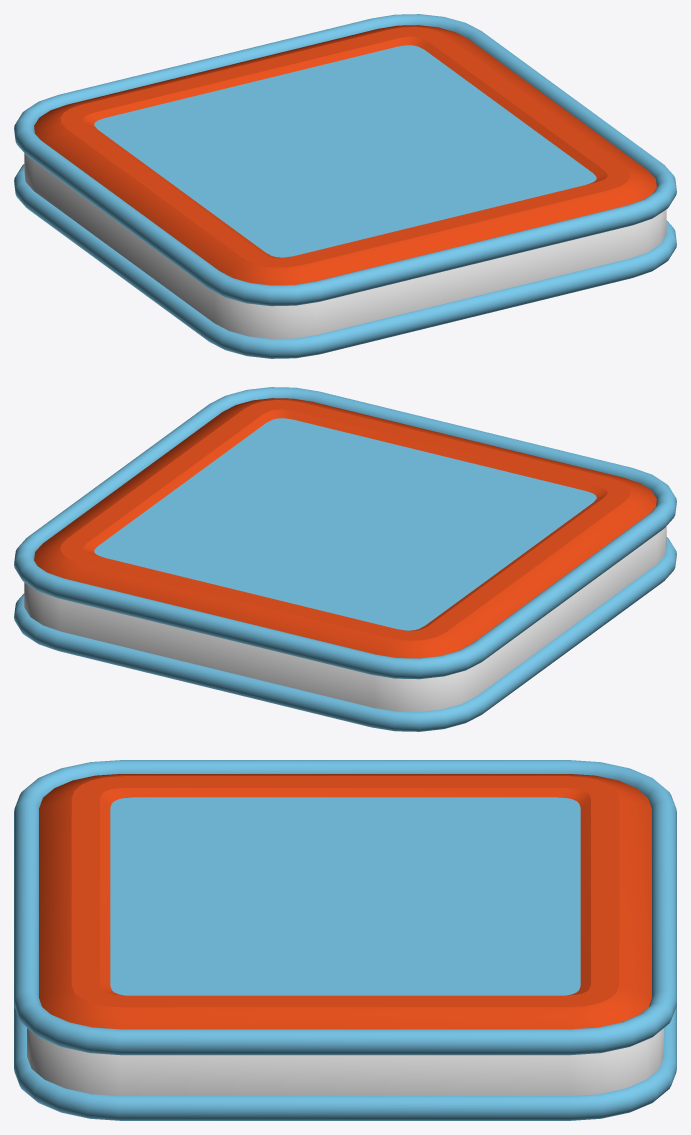
Rendered from Platform.glb.
The picture shows the model from 3 angles, top to bottom: view 1: azimuth 30°, elevation 25°; view 2: azimuth 150°, elevation 25°; view 3: azimuth 270°, elevation 25°; orthographic projection. The views are drawn at different scales.
Visible parts, largest first — view 1: Platform-col; view 2: Platform-col; view 3: Platform-col.
Part boxes in pixels (x1,y1,x2,y2): Platform-col: [14, 14, 676, 358]; Platform-col: [14, 387, 676, 731]; Platform-col: [14, 760, 676, 1120].
Size of what is drawn, in the model's own units: 2.08 by 0.3234 by 2.08.
